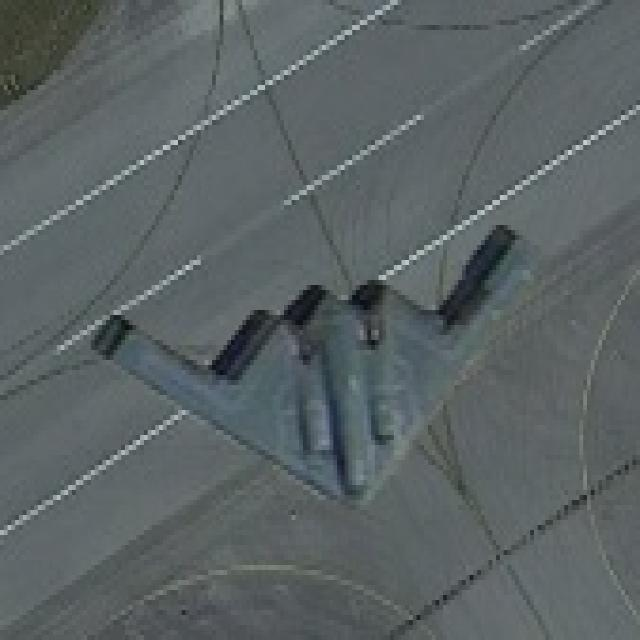B-2_TopDown: (83, 210, 534, 515)
